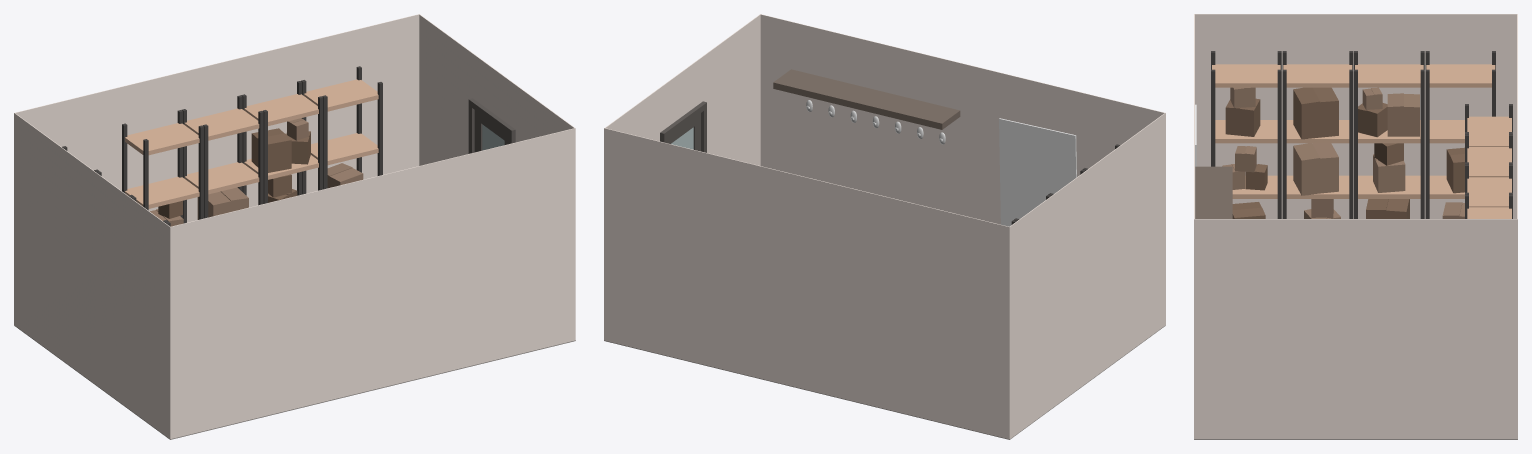
The model's file is Almacen.fbx.
3 renders of one model, left to right at view 1: azimuth 30°, elevation 25°; view 2: azimuth 150°, elevation 25°; view 3: azimuth 270°, elevation 25°, orthographic. The views are drawn at different scales.
Parts seen in each view (by area): view 1: pCube3, pCube4, pCube2, pCube59, pCube17 (×2), pCube9 (×2), pCube10 (×2), pCube16 (×2), door:pCube5, pCube47, pCube22 (×2), pCube15 (×2) (+4 smaller); view 2: pCube2, pCube3, pCube4, pCube59, pCube39, pCube32, door:pCube5, pCube1; view 3: pCube59, pCube4, pCube17 (×4), pCube9 (×4), pCube36, pCube55, pCube32, pCube16 (×2), pCube11 (×2), pCube10 (×2), pCube12 (×2), pCube20 (×2) (+20 smaller).
Boxes of the visible parts, x1=… form: pCube3: x1=170, y1=128, x2=575, y2=438; pCube4: x1=14, y1=113, x2=170, y2=439; pCube2: x1=15, y1=14, x2=419, y2=222; pCube59: x1=419, y1=14, x2=575, y2=340; pCube17 (×2): x1=125, y1=94, x2=318, y2=155; pCube9 (×2): x1=184, y1=79, x2=378, y2=140; pCube10 (×2): x1=184, y1=133, x2=378, y2=194; pCube16 (×2): x1=125, y1=155, x2=318, y2=208; door:pCube5: x1=468, y1=98, x2=515, y2=153; pCube47: x1=251, y1=128, x2=291, y2=172; pCube22 (×2): x1=198, y1=96, x2=323, y2=219; pCube15 (×2): x1=258, y1=82, x2=382, y2=205; pCube2: x1=604, y1=128, x2=1009, y2=439; pCube3: x1=760, y1=14, x2=1164, y2=224; pCube4: x1=1009, y1=112, x2=1165, y2=438; pCube59: x1=605, y1=14, x2=760, y2=165; pCube39: x1=999, y1=118, x2=1076, y2=226; pCube32: x1=773, y1=69, x2=960, y2=129; door:pCube5: x1=660, y1=101, x2=706, y2=152; pCube1: x1=604, y1=325, x2=1165, y2=439; pCube59: x1=1195, y1=219, x2=1516, y2=438; pCube4: x1=1195, y1=14, x2=1517, y2=218; pCube17 (×4): x1=1283, y1=64, x2=1511, y2=207; pCube9 (×4): x1=1212, y1=64, x2=1511, y2=218; pCube36: x1=1293, y1=87, x2=1338, y2=139; pCube55: x1=1293, y1=143, x2=1338, y2=195; pCube32: x1=1195, y1=166, x2=1232, y2=218; pCube16 (×2): x1=1286, y1=120, x2=1464, y2=143; pCube11 (×2): x1=1232, y1=175, x2=1420, y2=198; pCube10 (×2): x1=1215, y1=120, x2=1420, y2=143; pCube12 (×2): x1=1277, y1=69, x2=1424, y2=218; pCube20 (×2): x1=1282, y1=69, x2=1429, y2=218.
Bounding box in the file's own units: 600 × 301 × 400.
